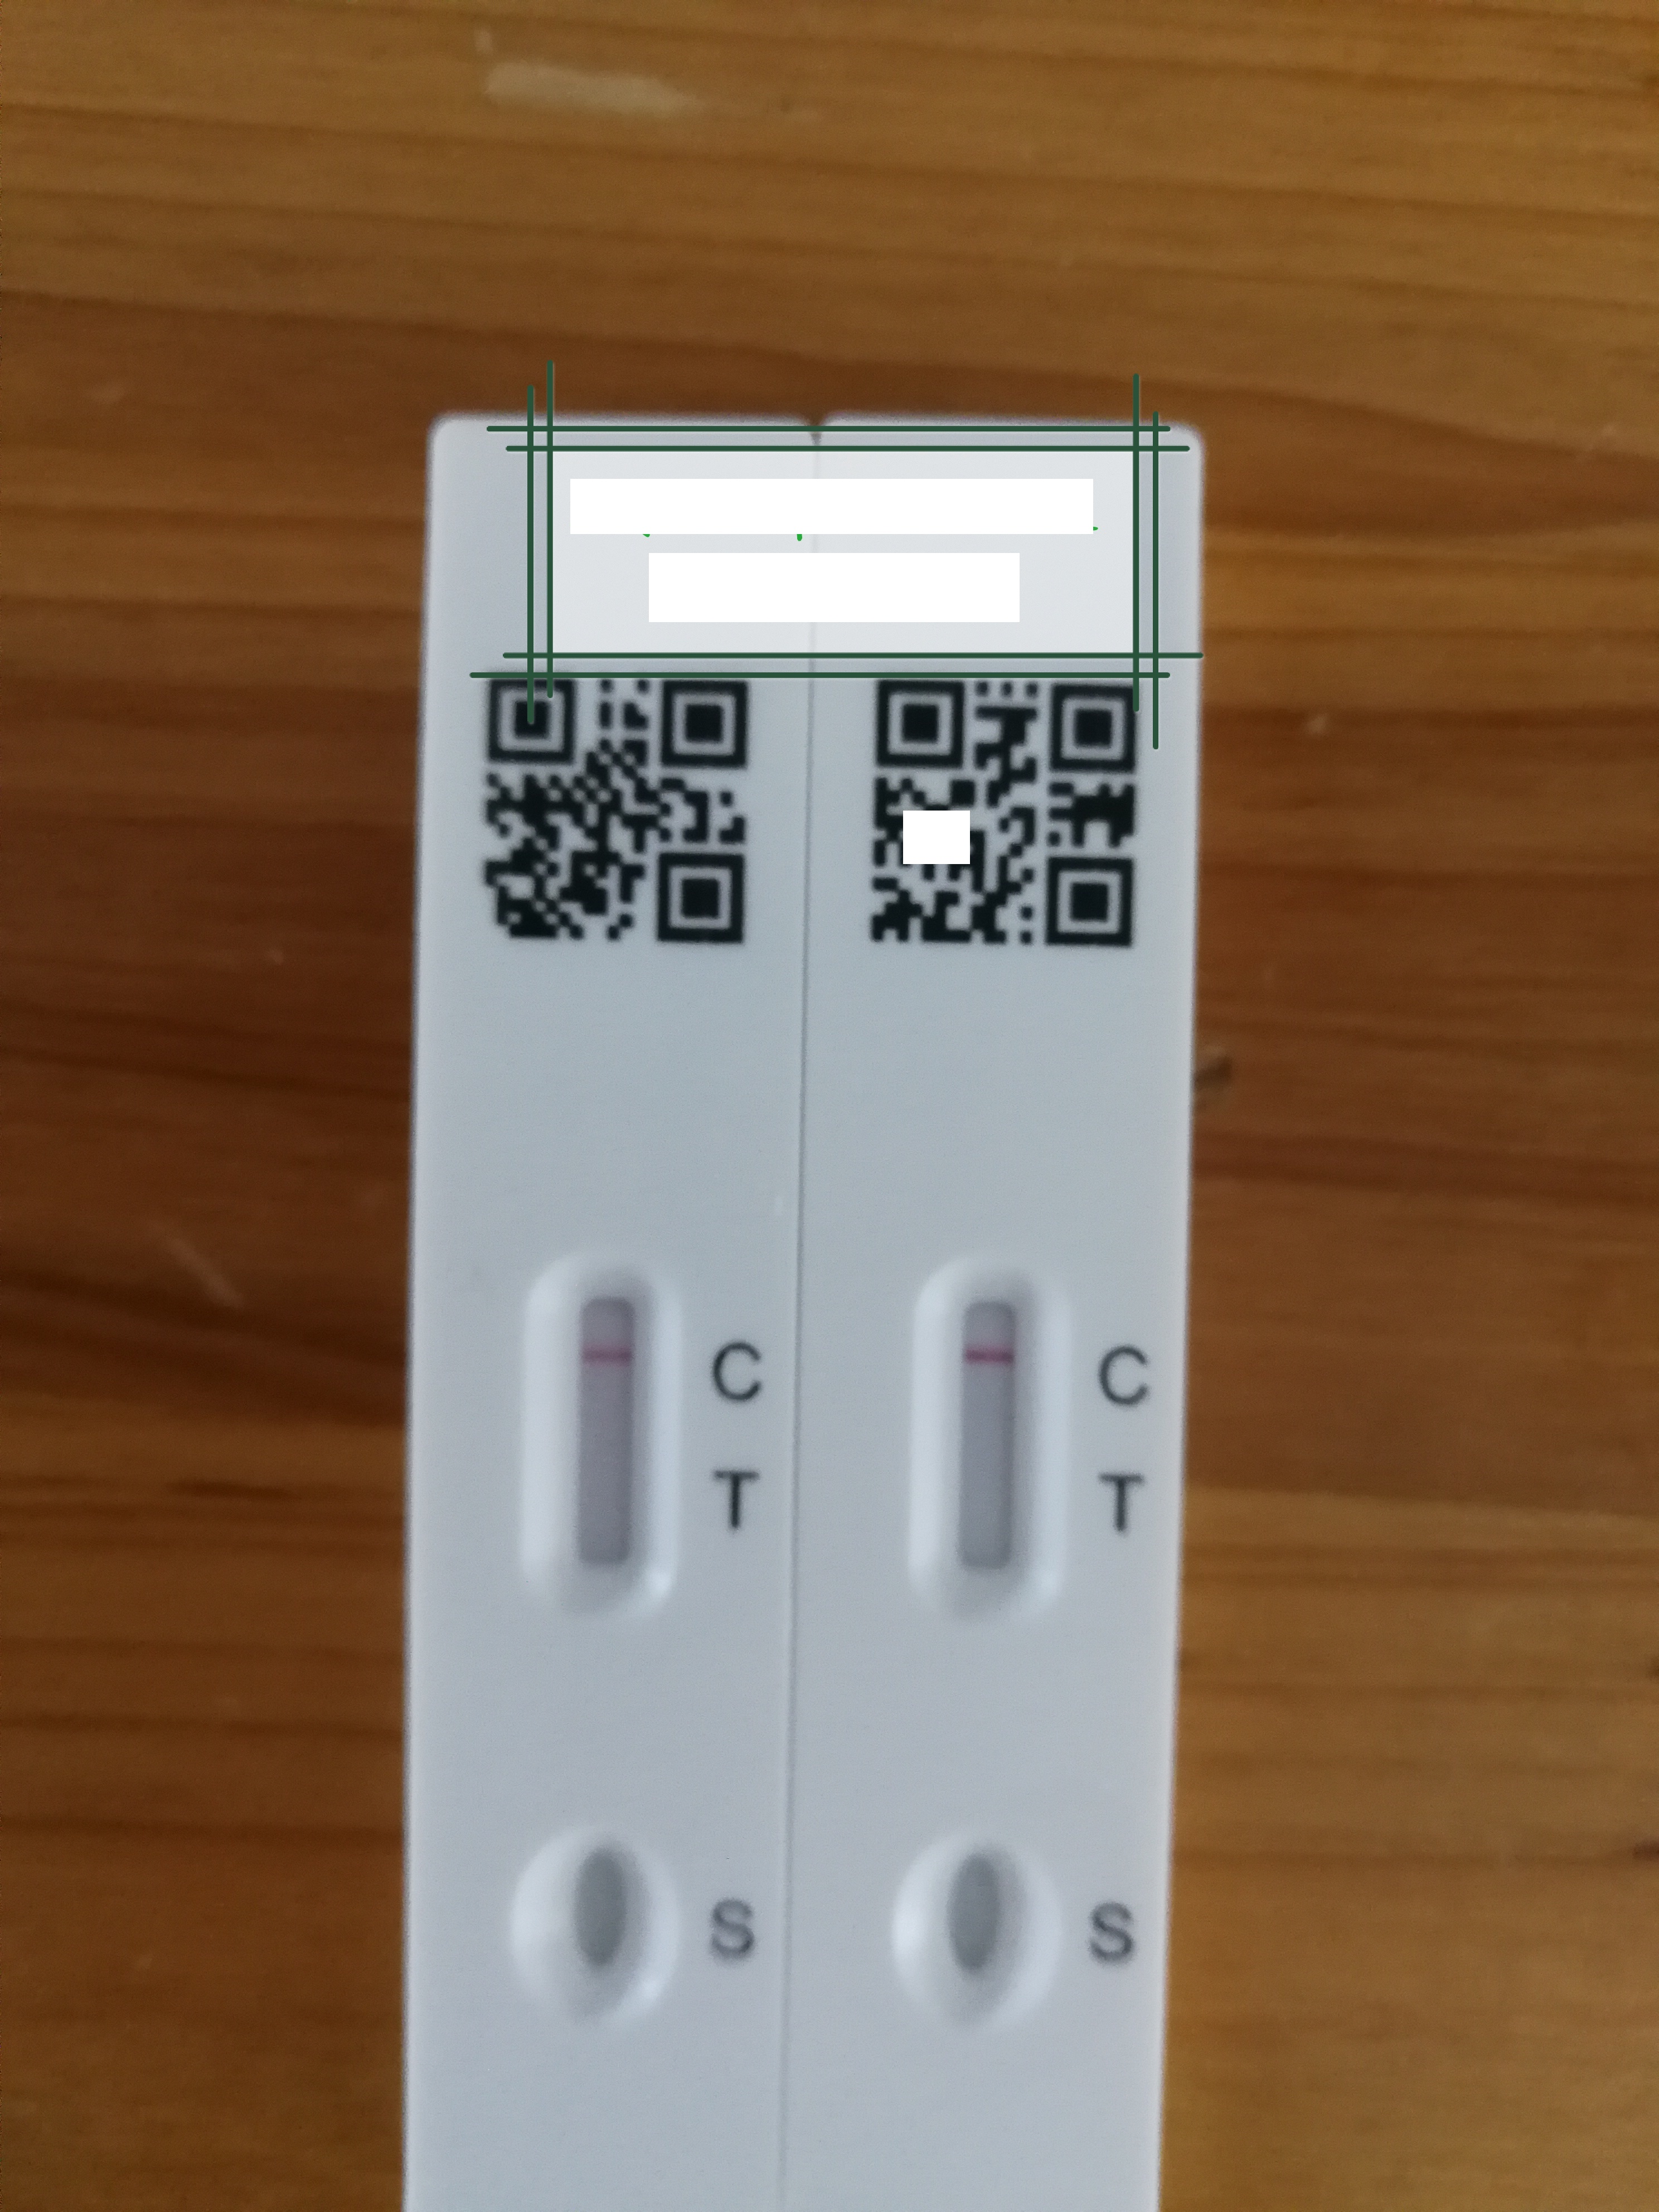negative: (915, 1244, 1058, 1625), (530, 1270, 667, 1625)
